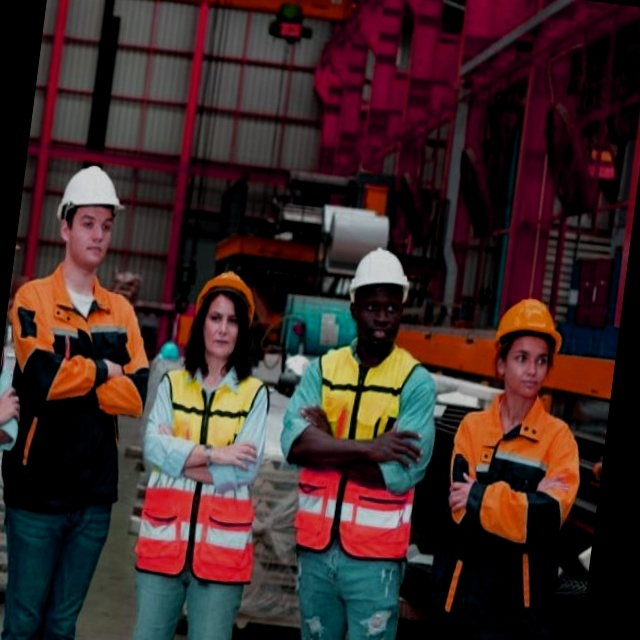Con_Casco: (485, 294, 566, 408), (50, 162, 128, 274), (340, 242, 415, 356), (188, 268, 258, 371)
Con_Chaleco: (284, 339, 440, 564), (131, 361, 274, 585)
